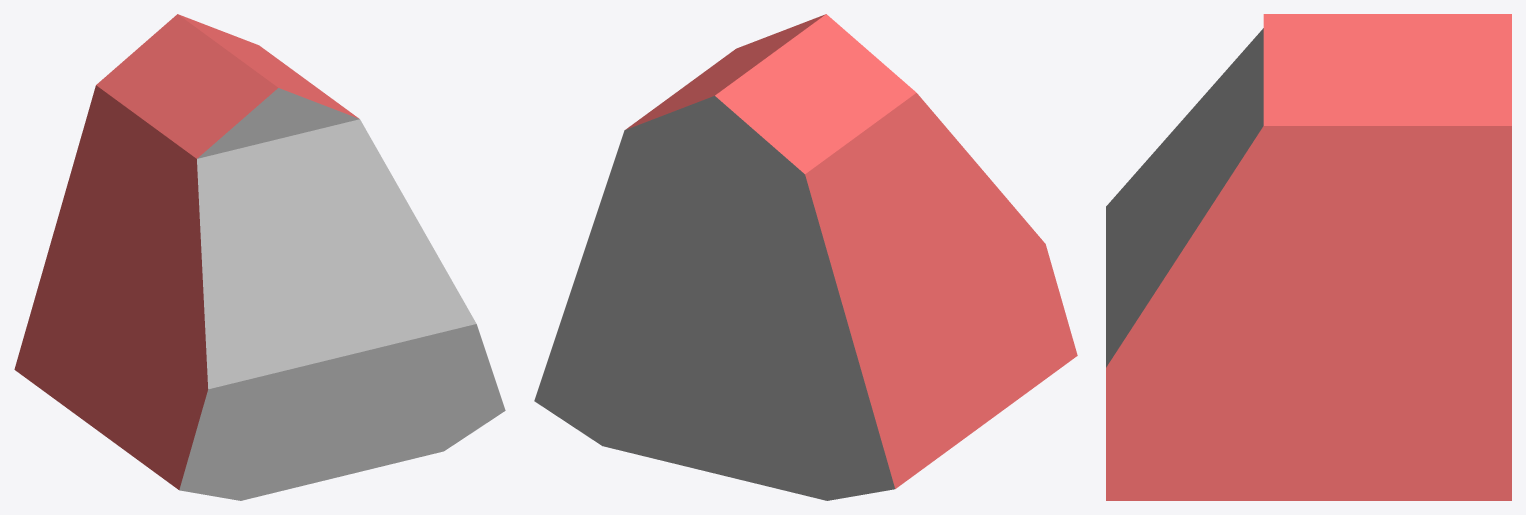
3 renders of one model, left to right at view 1: azimuth 30°, elevation 25°; view 2: azimuth 150°, elevation 25°; view 3: azimuth 270°, elevation 25°, orthographic. The views are drawn at different scales.
Visible parts, largest first — view 1: 35-6.SLDPRT; view 2: 35-6.SLDPRT; view 3: 35-6.SLDPRT.
Boxes of the visible parts, x1=… form: 35-6.SLDPRT: x1=14, y1=14, x2=505, y2=500; 35-6.SLDPRT: x1=534, y1=14, x2=1077, y2=500; 35-6.SLDPRT: x1=1106, y1=14, x2=1511, y2=500.
Bounding box in the file's own units: 0.04 × 0.04 × 0.035.
